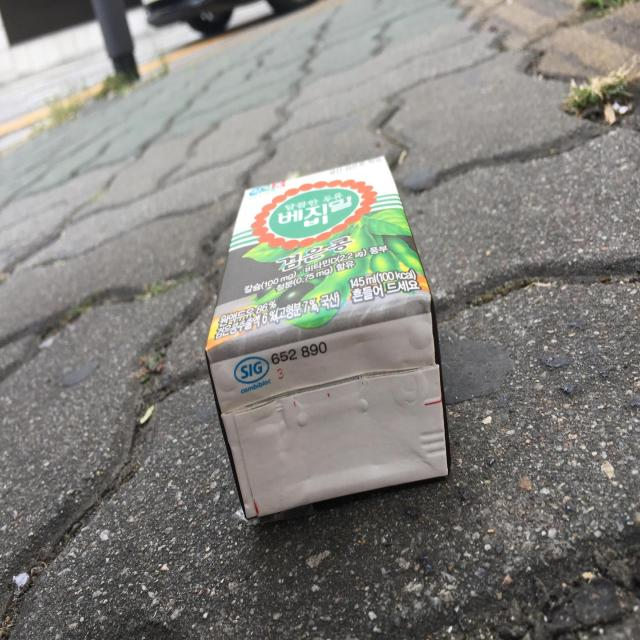paperpack: (206, 156, 451, 519)
